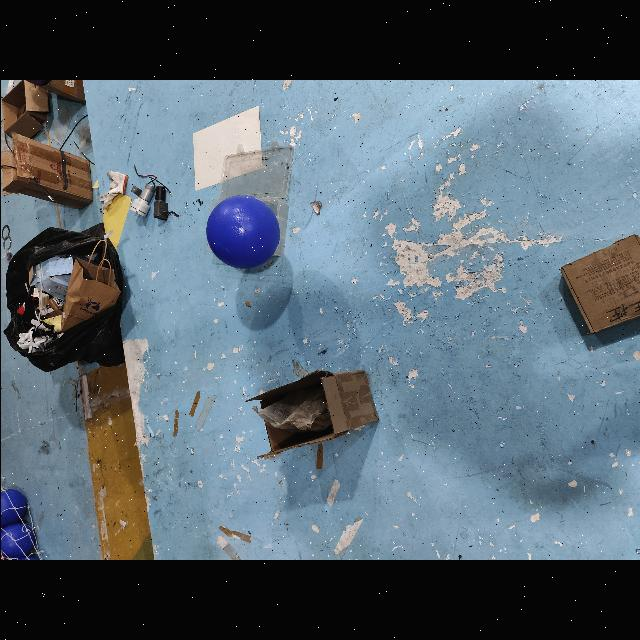B: (202, 194, 278, 270), (0, 522, 34, 560), (0, 489, 26, 527)
P: (10, 80, 56, 86)
